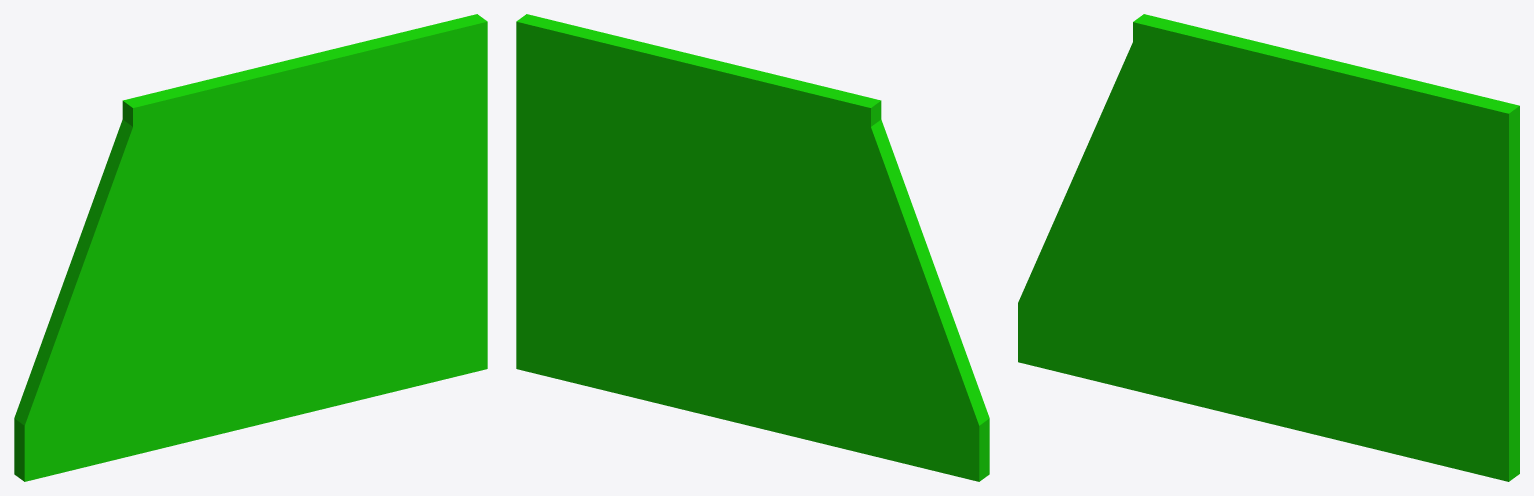
The model's file is sm_wall_cornervarient_collider_updated.fbx.
3 views of the same model, side by side, from view 1: azimuth 30°, elevation 25°; view 2: azimuth 150°, elevation 25°; view 3: azimuth 330°, elevation 25° (orthographic). The views are drawn at different scales.
Visible parts, largest first — view 1: Cube.011; view 2: Cube.011; view 3: Cube.011.
Part boxes in pixels (x1=…): Cube.011: x1=14, y1=14, x2=487, y2=481; Cube.011: x1=516, y1=14, x2=989, y2=481; Cube.011: x1=1018, y1=14, x2=1519, y2=481.
Bounding box in the file's own units: 10.4 × 7.45 × 0.4057.
